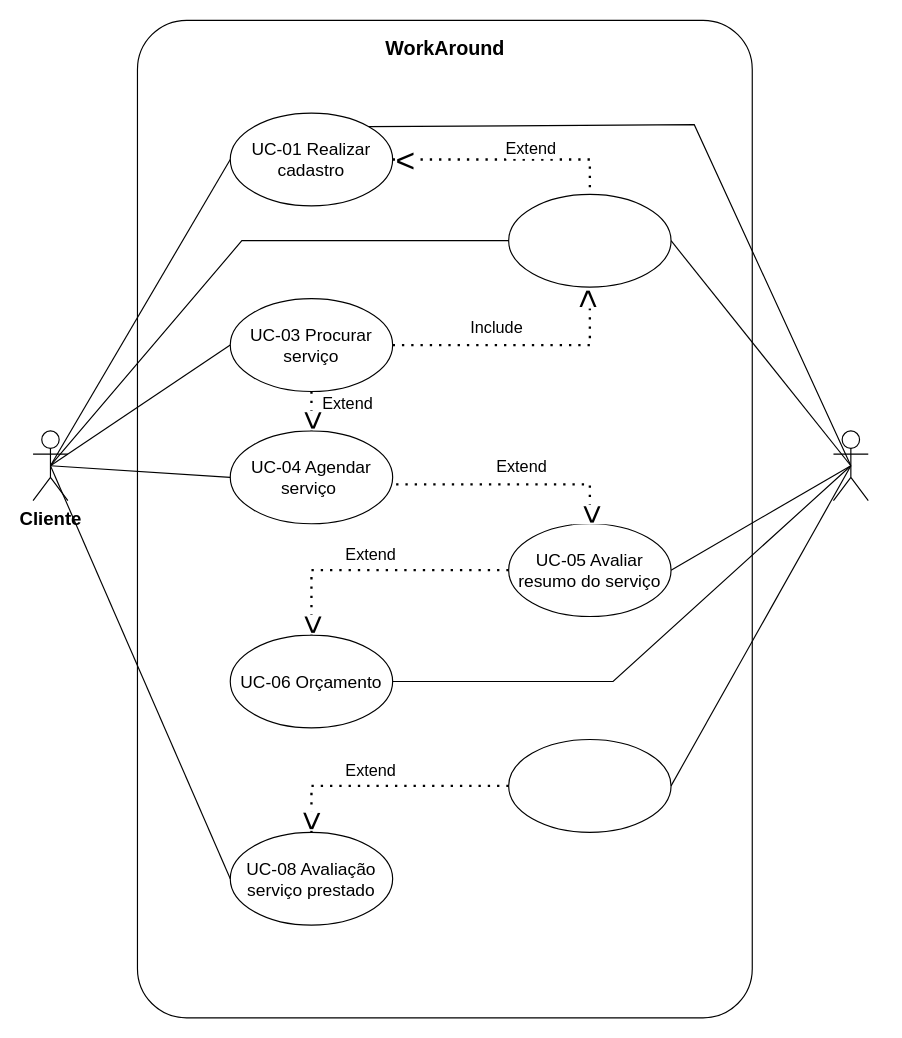
Some shapes in this 902 by 1038 pixel diagram are drawn without their labels. The box of each missing label's shape, as (x1, y1, x2, y2) in pixels:
UC-02 Logar: (507, 193, 671, 287)
UC-07 Finalização serviço: (507, 738, 671, 832)
Worker: (832, 430, 868, 501)
